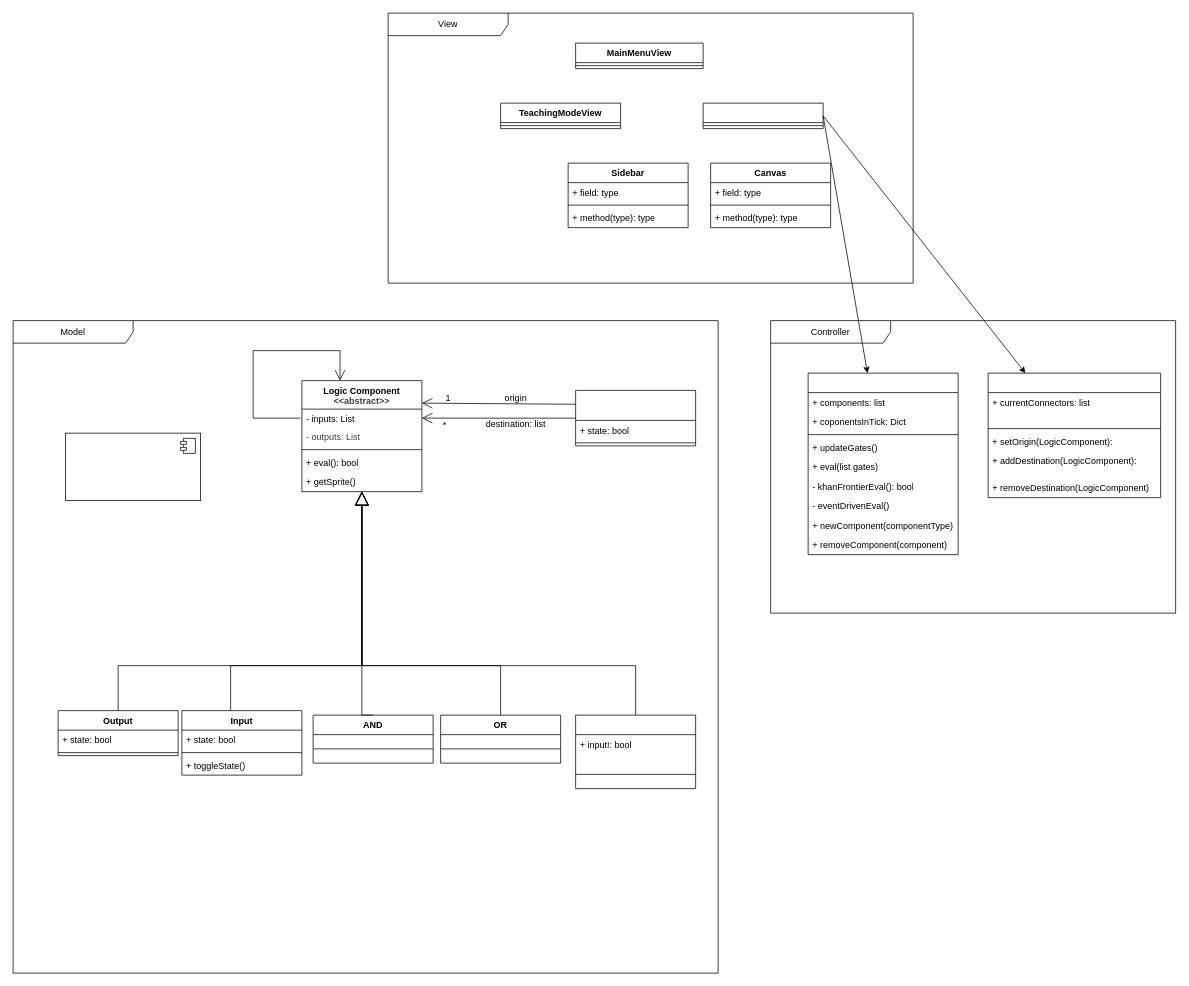
The diagram is 1189 pixels wide and 986 high, and some of its shapes have lost their labels. The shapes that lost their labels are listed below. From the top down, each one's box as (x1, y1, x2, y2) in pixels, then its label:
(702, 102, 823, 129): SandboxModeView
(575, 390, 696, 446): Connector
(987, 372, 1161, 498): ConnectorController
(65, 432, 201, 501): <<non-class-file>> GlobalConstants
(807, 372, 958, 555): LogicComponetController
(575, 714, 696, 789): NOT
